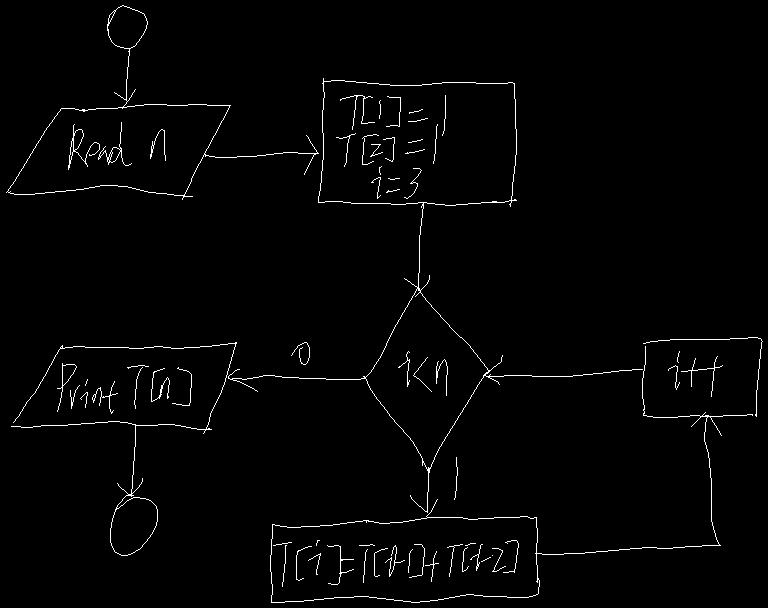arrow: (535, 412, 721, 554), (483, 355, 642, 384), (205, 135, 318, 174), (228, 369, 364, 391), (404, 202, 429, 296), (117, 424, 142, 496), (410, 467, 437, 516), (114, 49, 135, 108)
connection: (110, 494, 157, 555), (107, 5, 147, 48)
data: (6, 104, 230, 199), (11, 342, 236, 433)
decision: (364, 287, 489, 472)
process: (318, 78, 516, 206), (270, 516, 539, 602), (642, 337, 762, 417)
text: (273, 540, 518, 586), (336, 95, 445, 198), (57, 363, 191, 413), (68, 122, 165, 169), (668, 351, 722, 396), (398, 351, 447, 395), (291, 342, 309, 364), (454, 457, 457, 499)
